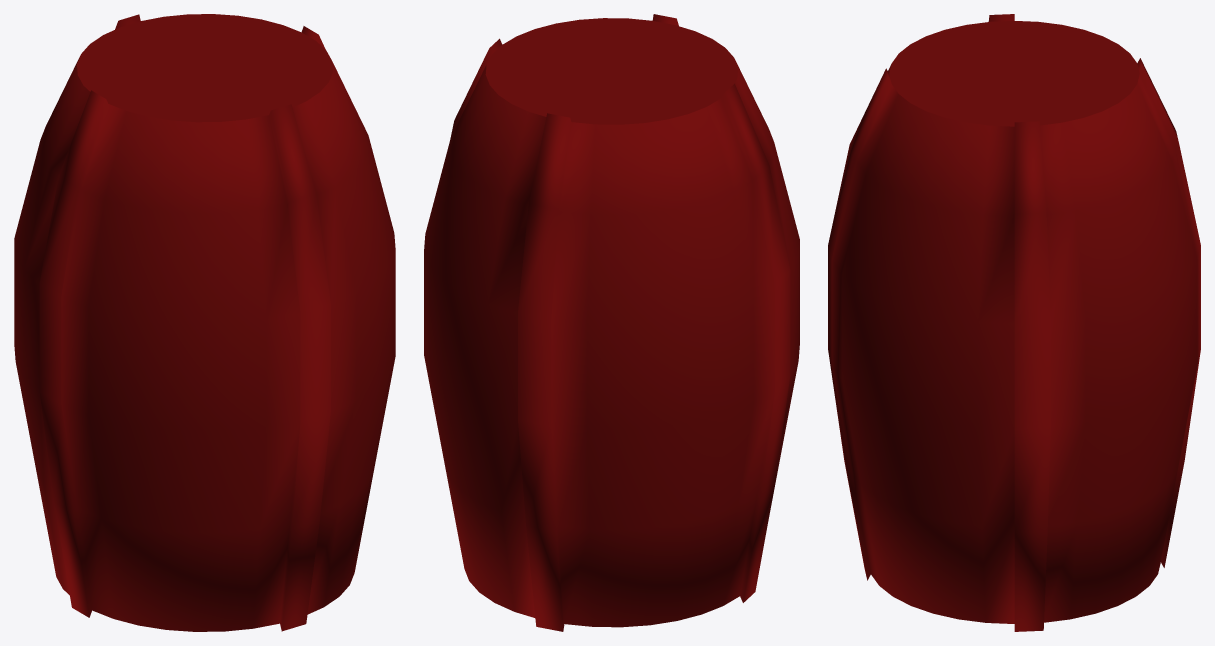
The model's file is _jxrf.fbx.
3 renders of one model, left to right at view 1: azimuth 30°, elevation 25°; view 2: azimuth 150°, elevation 25°; view 3: azimuth 270°, elevation 25°, orthographic. The views are drawn at different scales.
Parts seen in each view (by area): view 1: Circle; view 2: Circle; view 3: Circle.
Boxes of the visible parts, x1,y1,x2,y2 form: Circle: (14, 14, 395, 631); Circle: (424, 14, 799, 631); Circle: (828, 14, 1200, 631).
Size of the model in its own units: 611 by 904 by 611.
